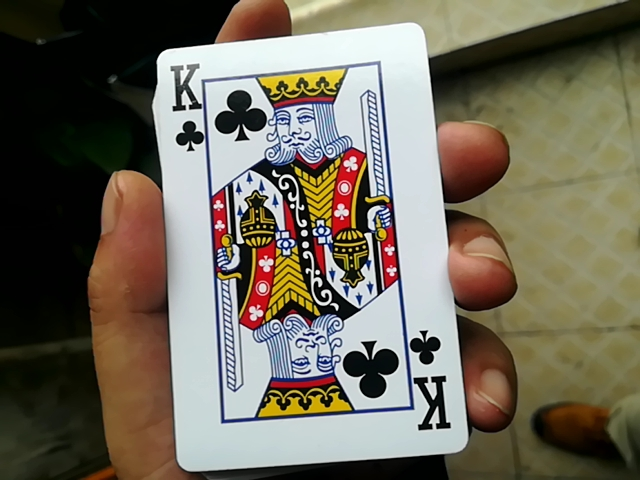mh k: (136, 28, 468, 464)
